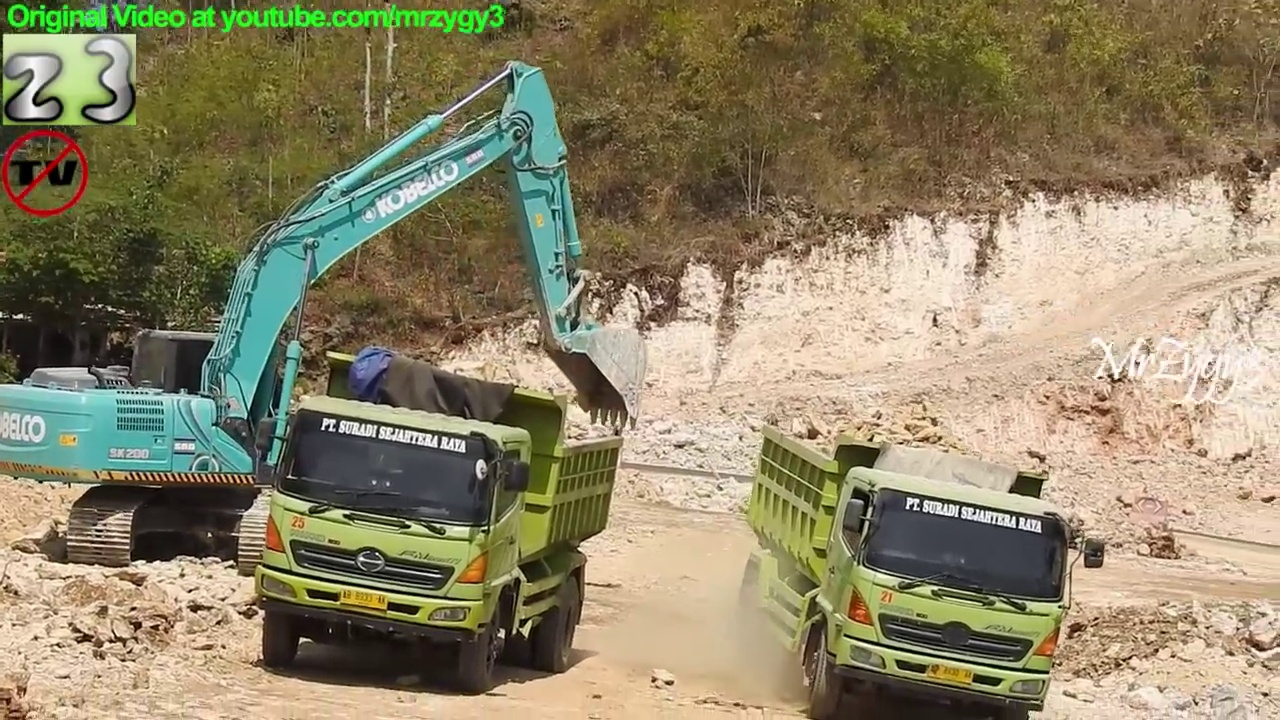excavator: (1, 56, 646, 578)
truck: (257, 345, 624, 690), (744, 419, 1103, 719)
